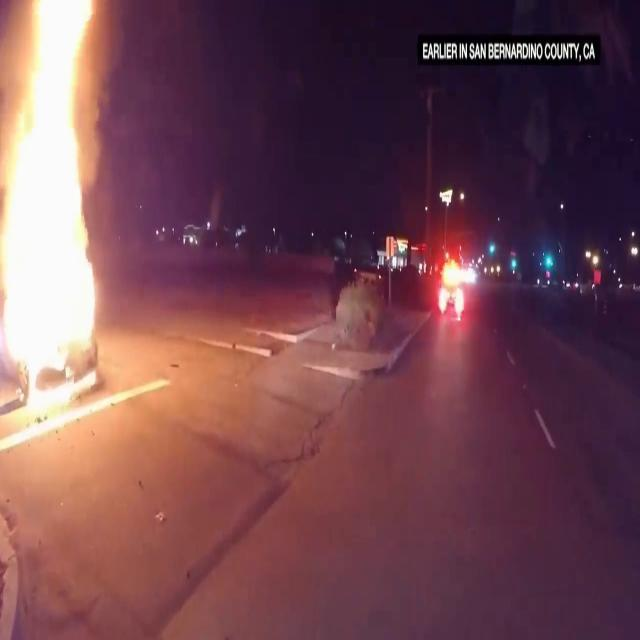Fire: (0, 1, 115, 420)
